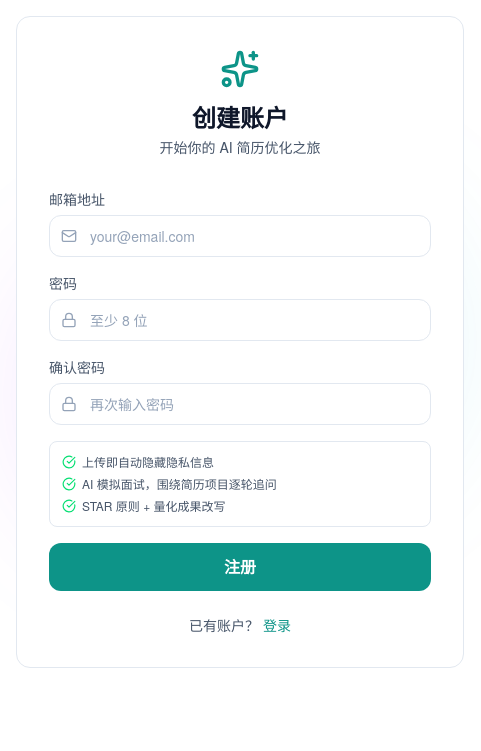
RegisterPage › enforces the same 8 character minimum the API enforces
In the field with placeholder "your@email.com": (240, 236) left=49, top=215, right=431, bottom=257, type "new@example.com"
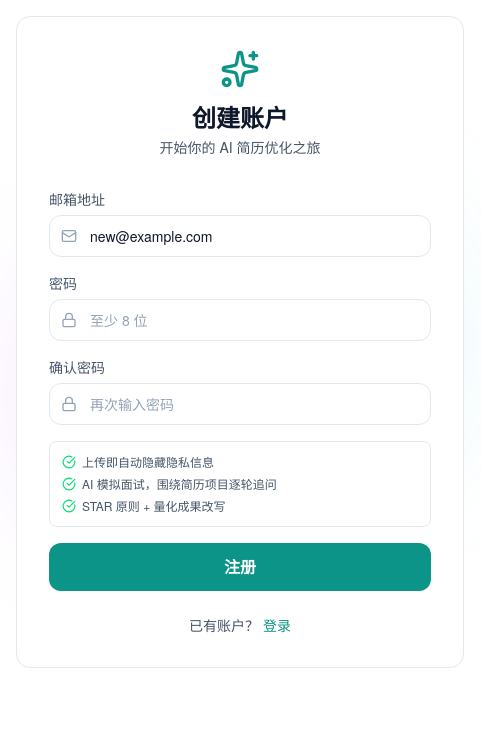
In the password field with placeholder "至少 8 位": (240, 320) left=49, top=299, right=431, bottom=341, type "short7c"
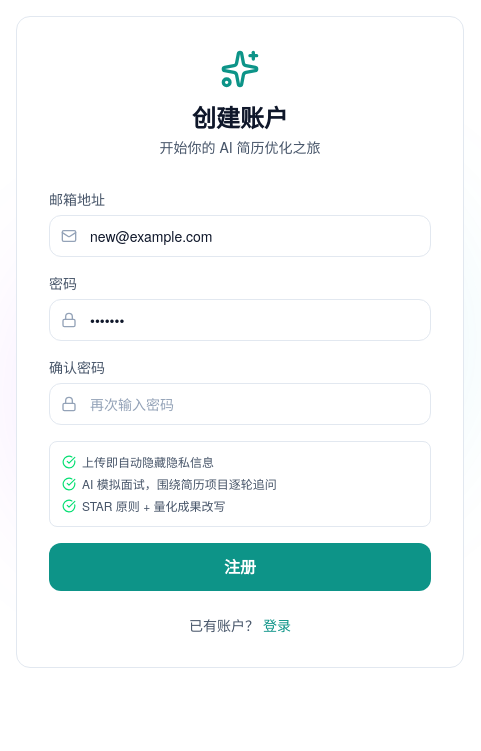
In the password field with placeholder "再次输入密码": (240, 404) left=49, top=383, right=431, bottom=425, type "short7c"
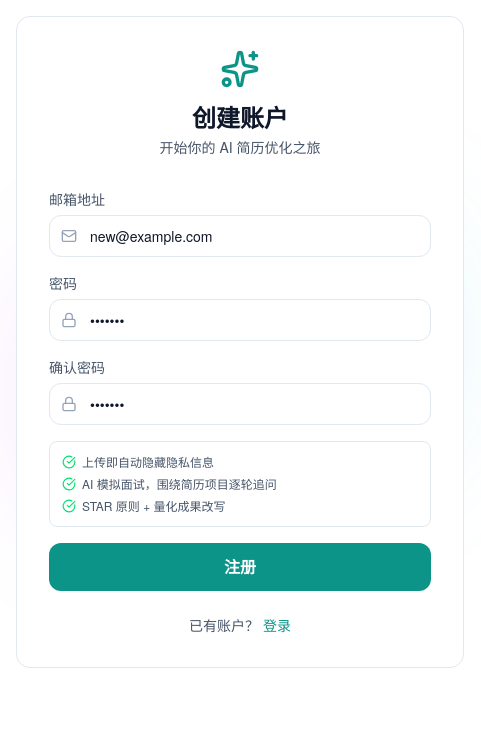
Submit the form, box left=49, top=189, right=431, bottom=591
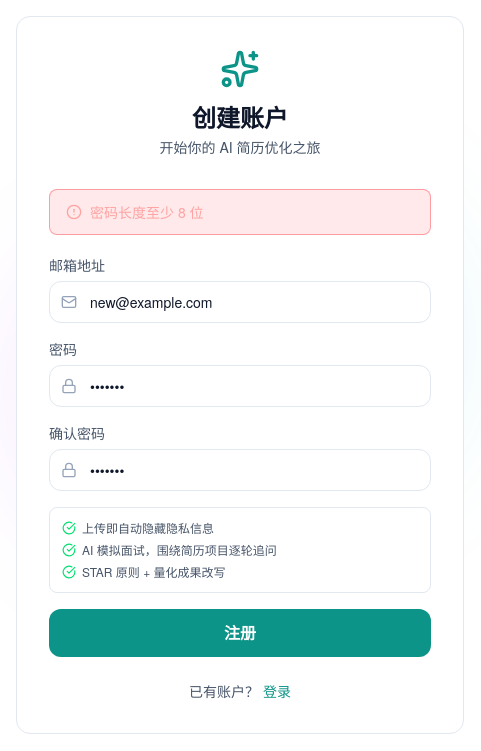
Now the text "密码长度至少 8 位" is shown, box left=90, top=202, right=204, bottom=222
